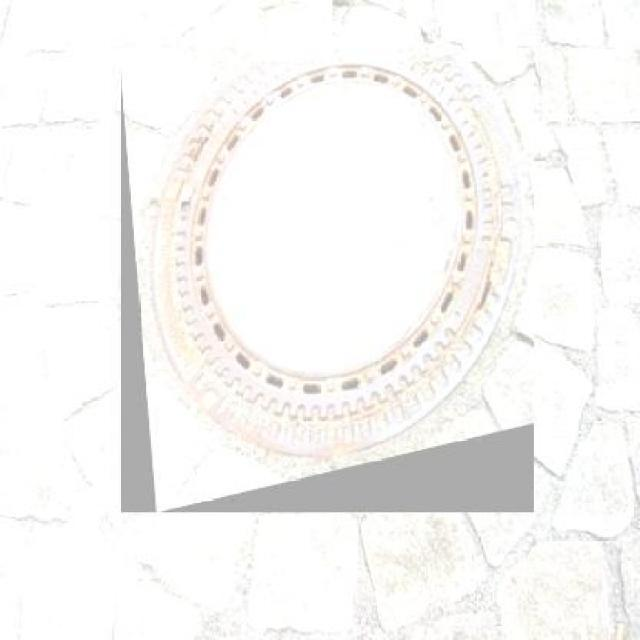Manhole: (120, 61, 534, 512)
